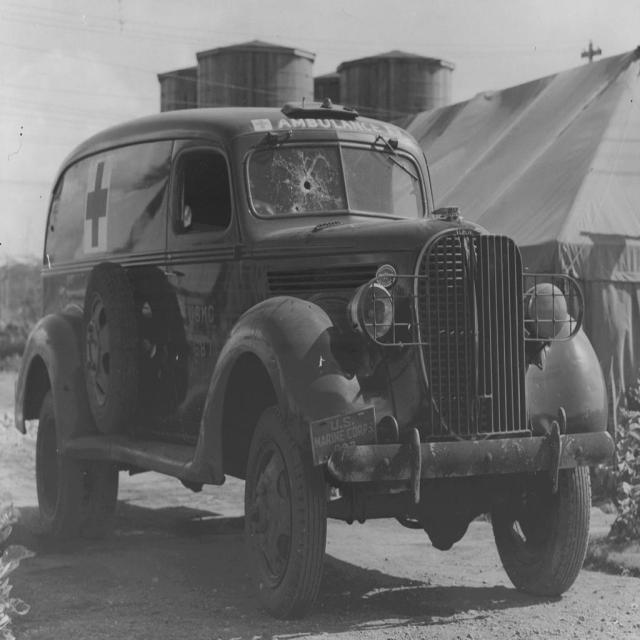car: (13, 95, 618, 627)
